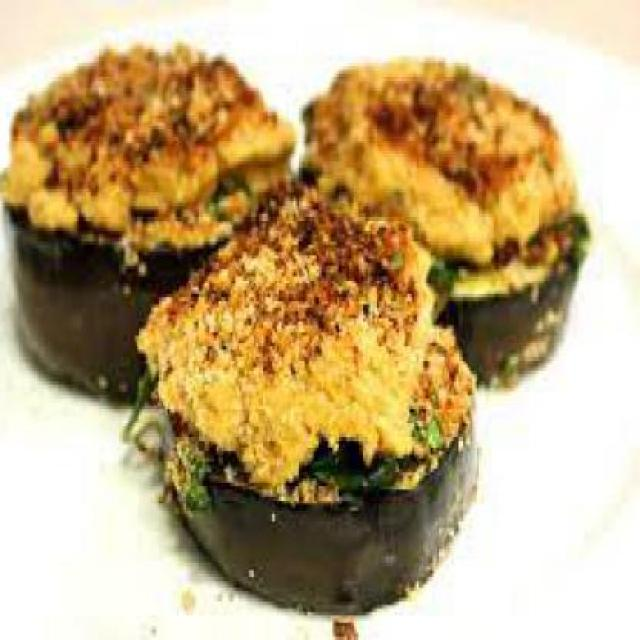eggplant: (146, 406, 482, 616), (9, 223, 203, 409), (451, 223, 589, 382)
hummus: (16, 48, 564, 235), (144, 188, 465, 466)
